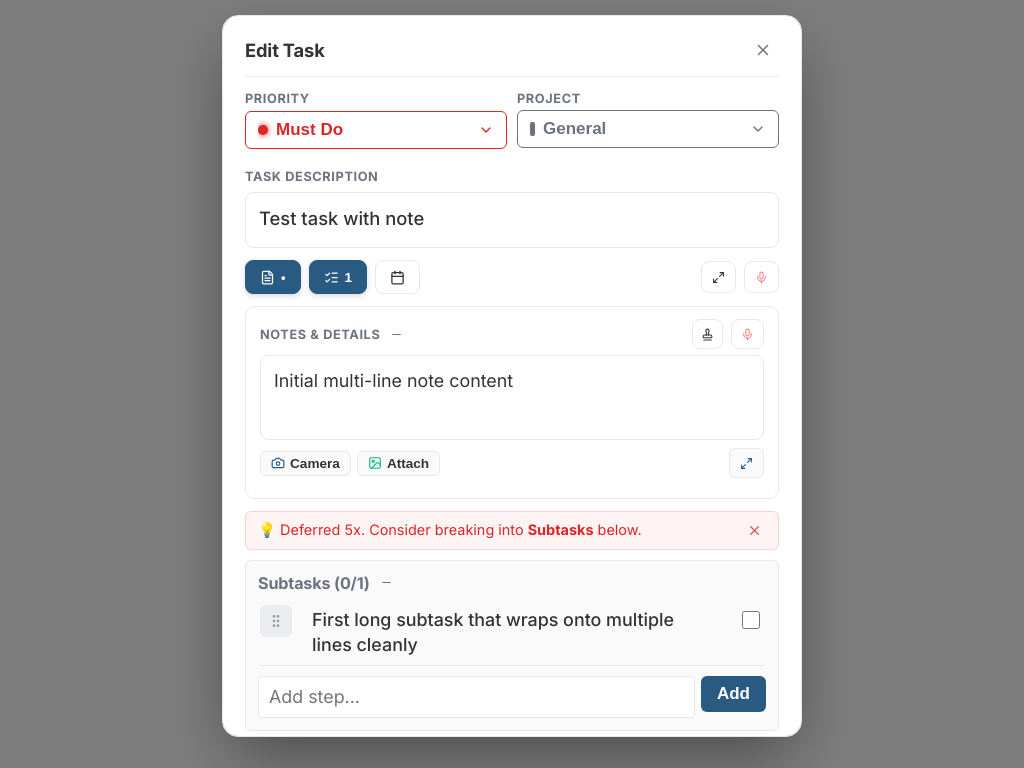
Test: EditModal › allows dismissing defer alert for good via x button
Expected: the text "💡 Deferred 5x. Consider breaking into Subtasks below." is shown, [258,521,642,538]
Click the button named "Dismiss deferred notice": (754, 530) [743,521,766,540]
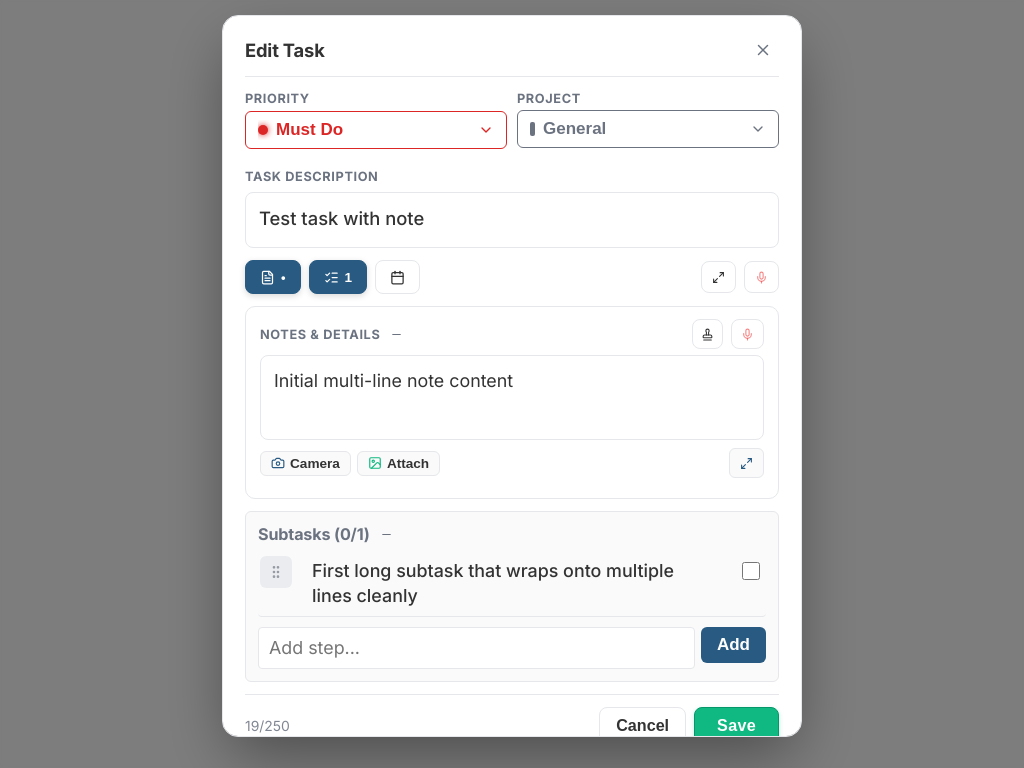
Now the text "Deferred 5x" is gone
